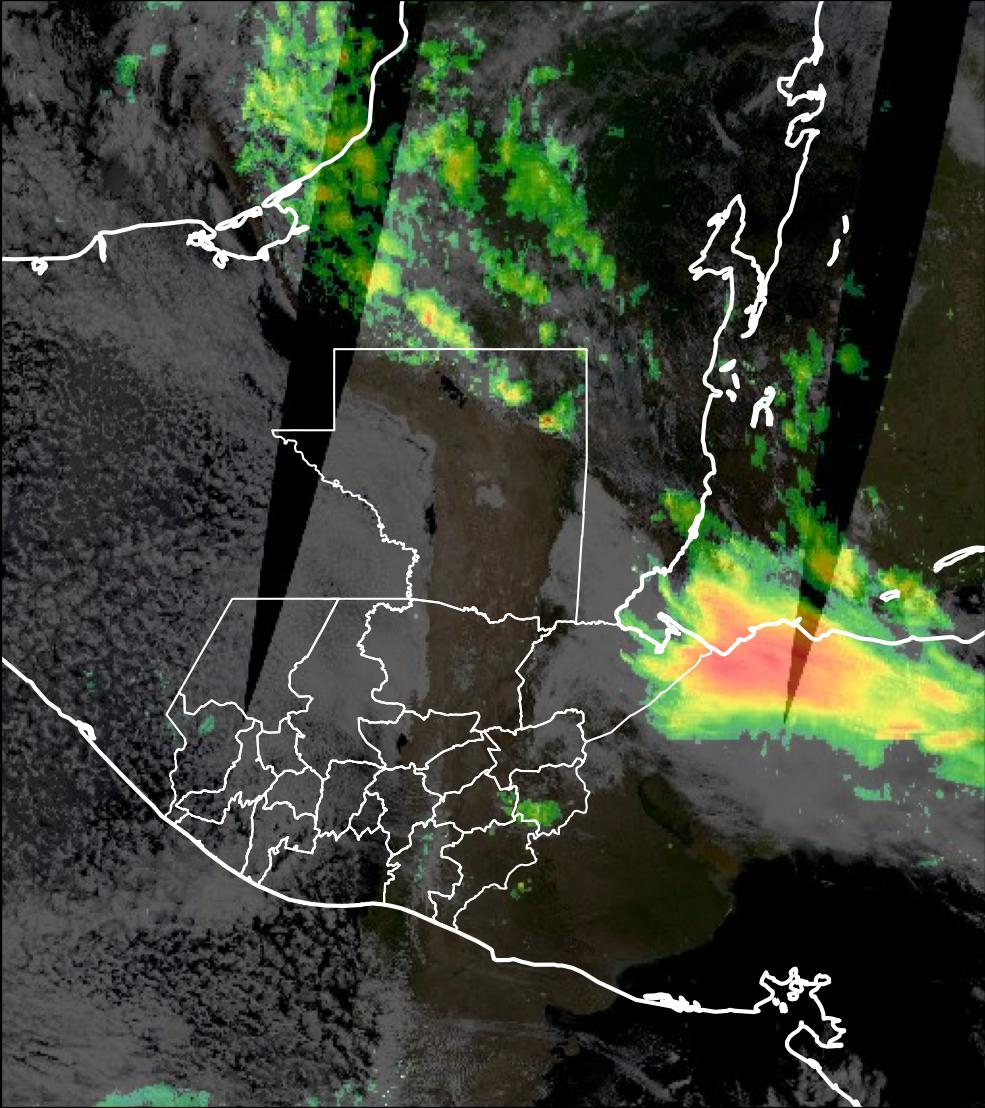precipitacion: (639, 580, 893, 724)
